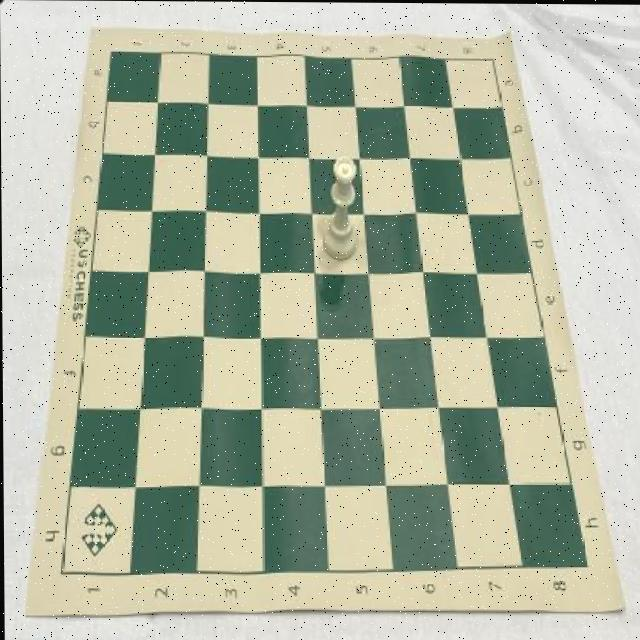white-pawn: (321, 154, 359, 262)
